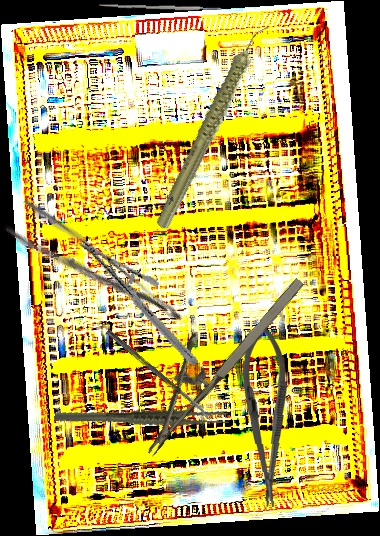Dressing Forceps: (2, 195, 186, 348)
Handpiece: (118, 21, 310, 233)
Needle Holder: (113, 252, 309, 457), (54, 239, 223, 366), (239, 321, 292, 509)
Scalpel Handle: (98, 2, 223, 13)
Surgical Spoon: (104, 328, 214, 422)
Tissue Forceps: (53, 378, 231, 456)
